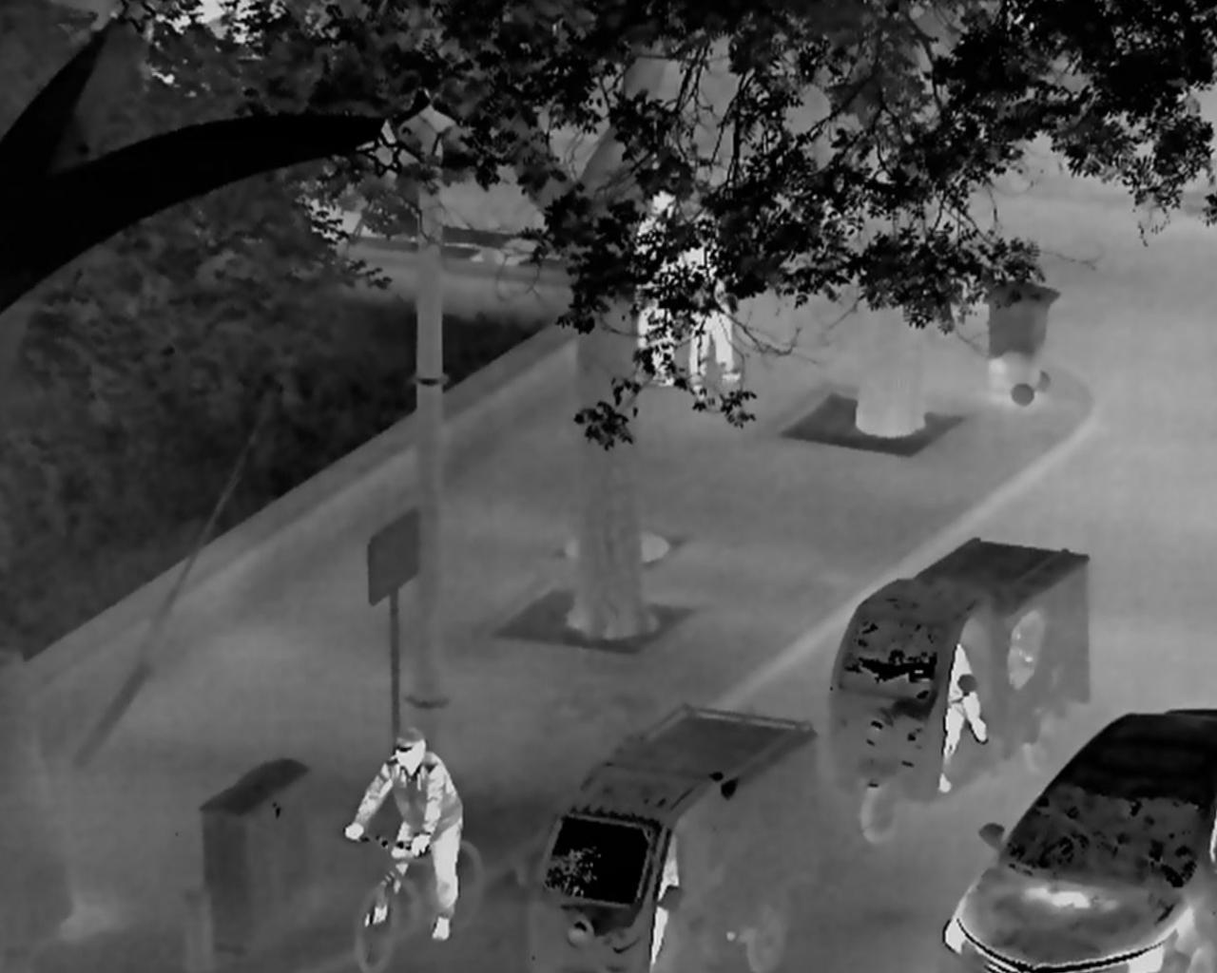person: (343, 726, 462, 942), (683, 203, 744, 401), (632, 189, 684, 388), (937, 641, 989, 794), (650, 830, 682, 966)
